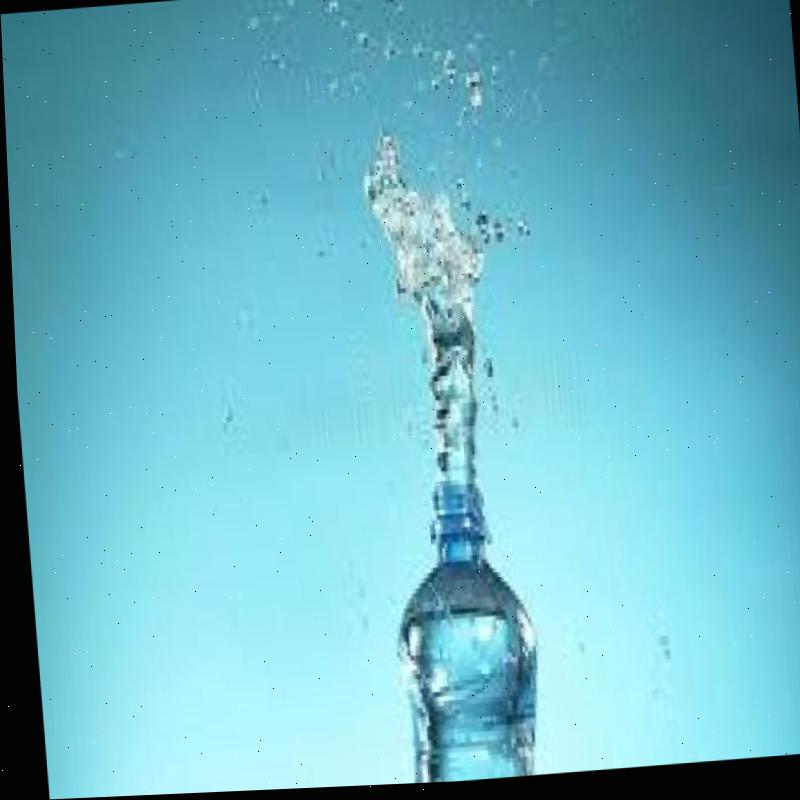botella: (380, 481, 541, 786)
